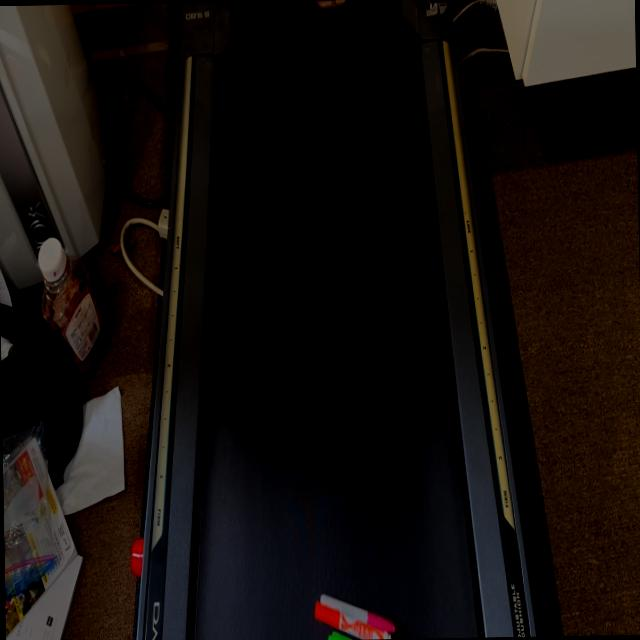Trash: (313, 589, 396, 640)
